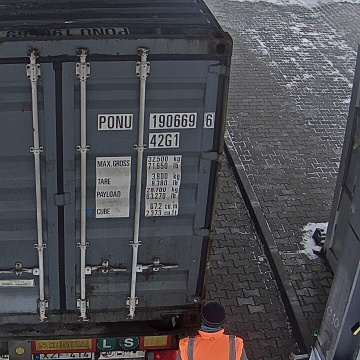serial_id: (99, 114, 212, 128)
